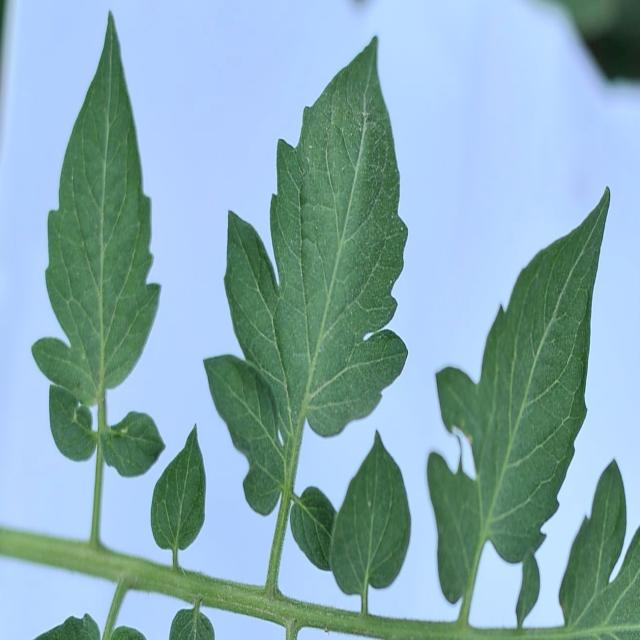healthy: (201, 30, 411, 519), (418, 181, 640, 622), (26, 2, 168, 481), (330, 429, 410, 599), (149, 421, 208, 558)
